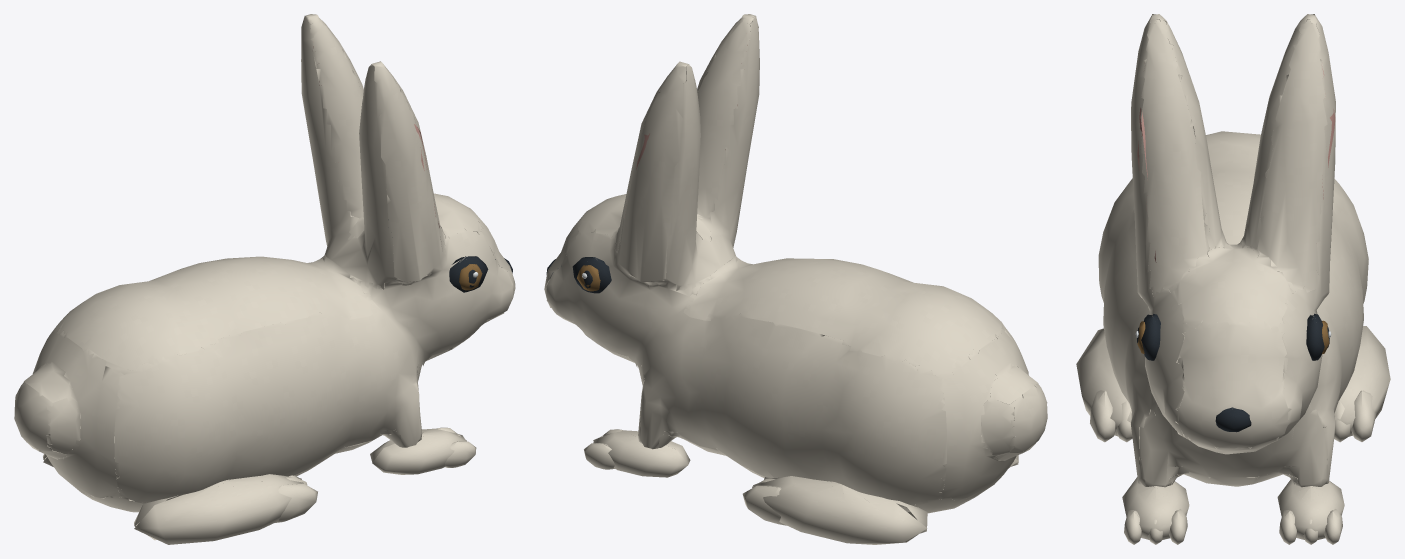
File: rabbit.glb
3 renders of one model, left to right at view 1: azimuth 30°, elevation 25°; view 2: azimuth 150°, elevation 25°; view 3: azimuth 270°, elevation 25°, orthographic. The views are drawn at different scales.
Visible parts, largest first — view 1: Continuous anatomical skin; view 2: Continuous anatomical skin; view 3: Continuous anatomical skin.
Part boxes in pixels (x1,y1,x2,y2): Continuous anatomical skin: [14, 14, 515, 544]; Continuous anatomical skin: [544, 14, 1047, 544]; Continuous anatomical skin: [1076, 14, 1390, 544].
Size of the model in its own units: 0.4161 by 0.3395 by 0.1974.
5 materials, 5 textured.
